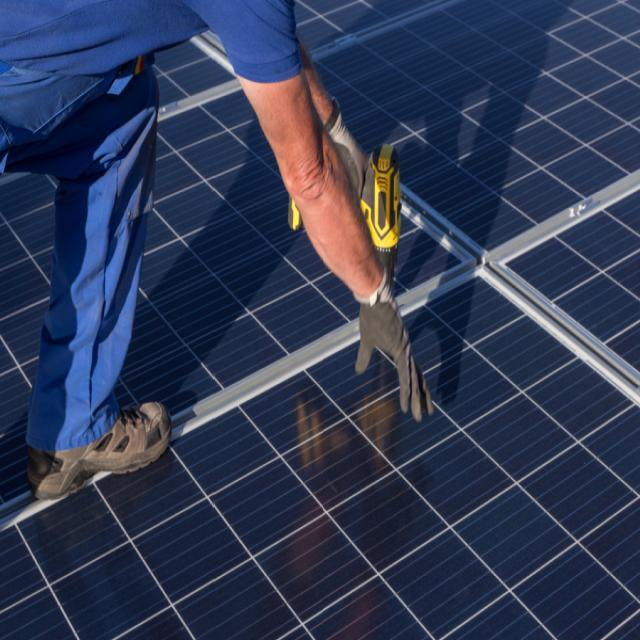clean-solar-panel: (2, 0, 640, 639)
